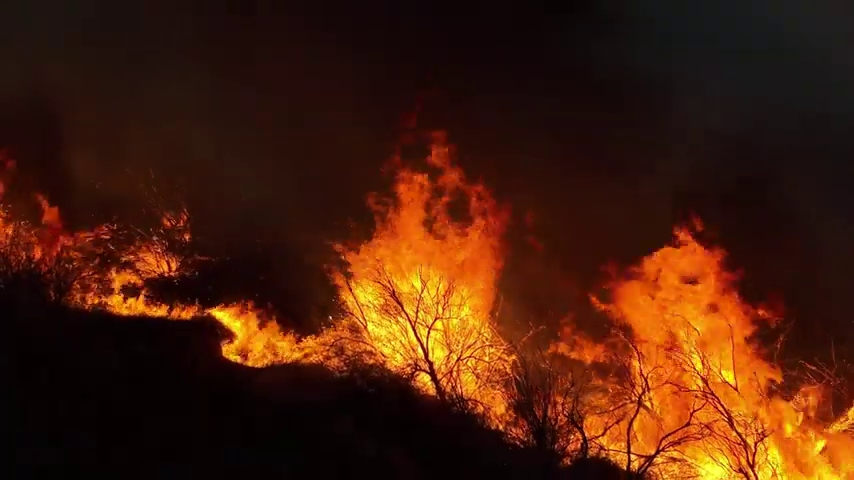forest_fire: (1, 134, 853, 479), (7, 162, 11, 167), (0, 183, 1, 191)
